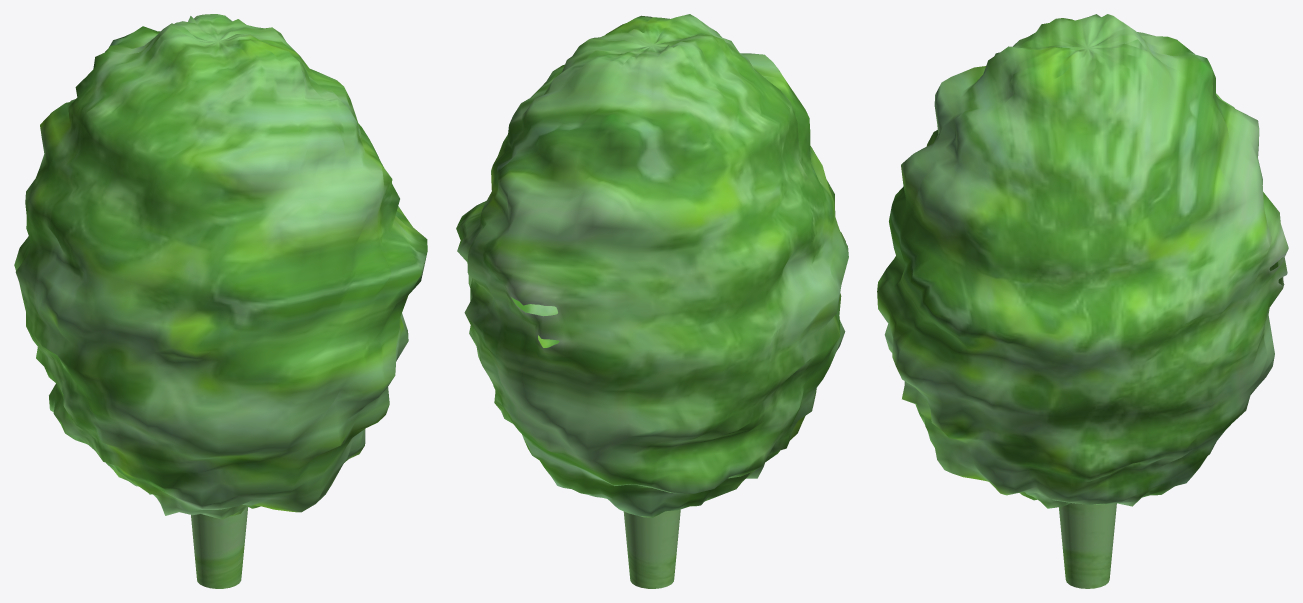
Rendered from Arbol3V.fbx.
3 views of the same model, side by side, from view 1: azimuth 30°, elevation 25°; view 2: azimuth 150°, elevation 25°; view 3: azimuth 270°, elevation 25° (orthographic).
Visible parts, largest first — view 1: boom_013; view 2: boom_013; view 3: boom_013.
Part boxes in pixels (x1,y1,x2,y2): boom_013: [14, 14, 427, 588]; boom_013: [456, 14, 848, 588]; boom_013: [877, 14, 1288, 588].
Size of the model in its own units: 59.96 by 90.53 by 61.66.
Materials: 1 (1 with a texture image).
